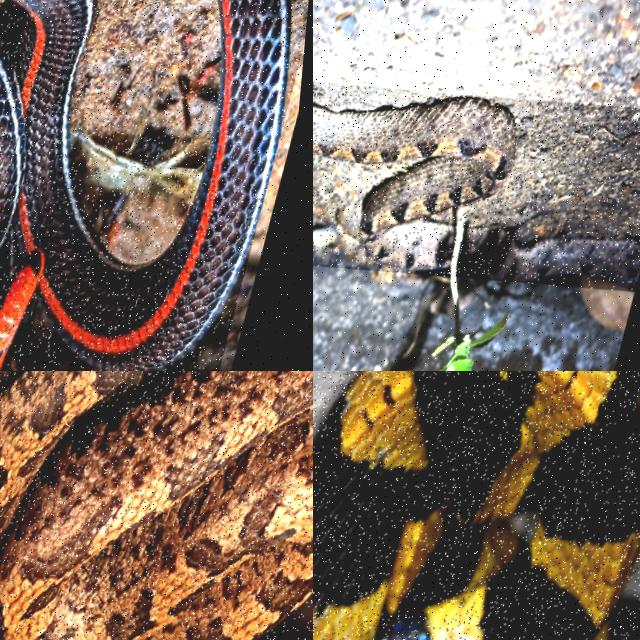Bungarus fasciatus: (313, 371, 639, 639)
Calliophis intestinalis: (0, 0, 290, 370)
Calloselasma rhodostoma: (313, 98, 515, 269)
Ovophis monticola: (0, 371, 312, 639)
snake: (0, 0, 290, 370), (313, 371, 639, 639), (0, 371, 312, 639), (313, 98, 515, 269)
